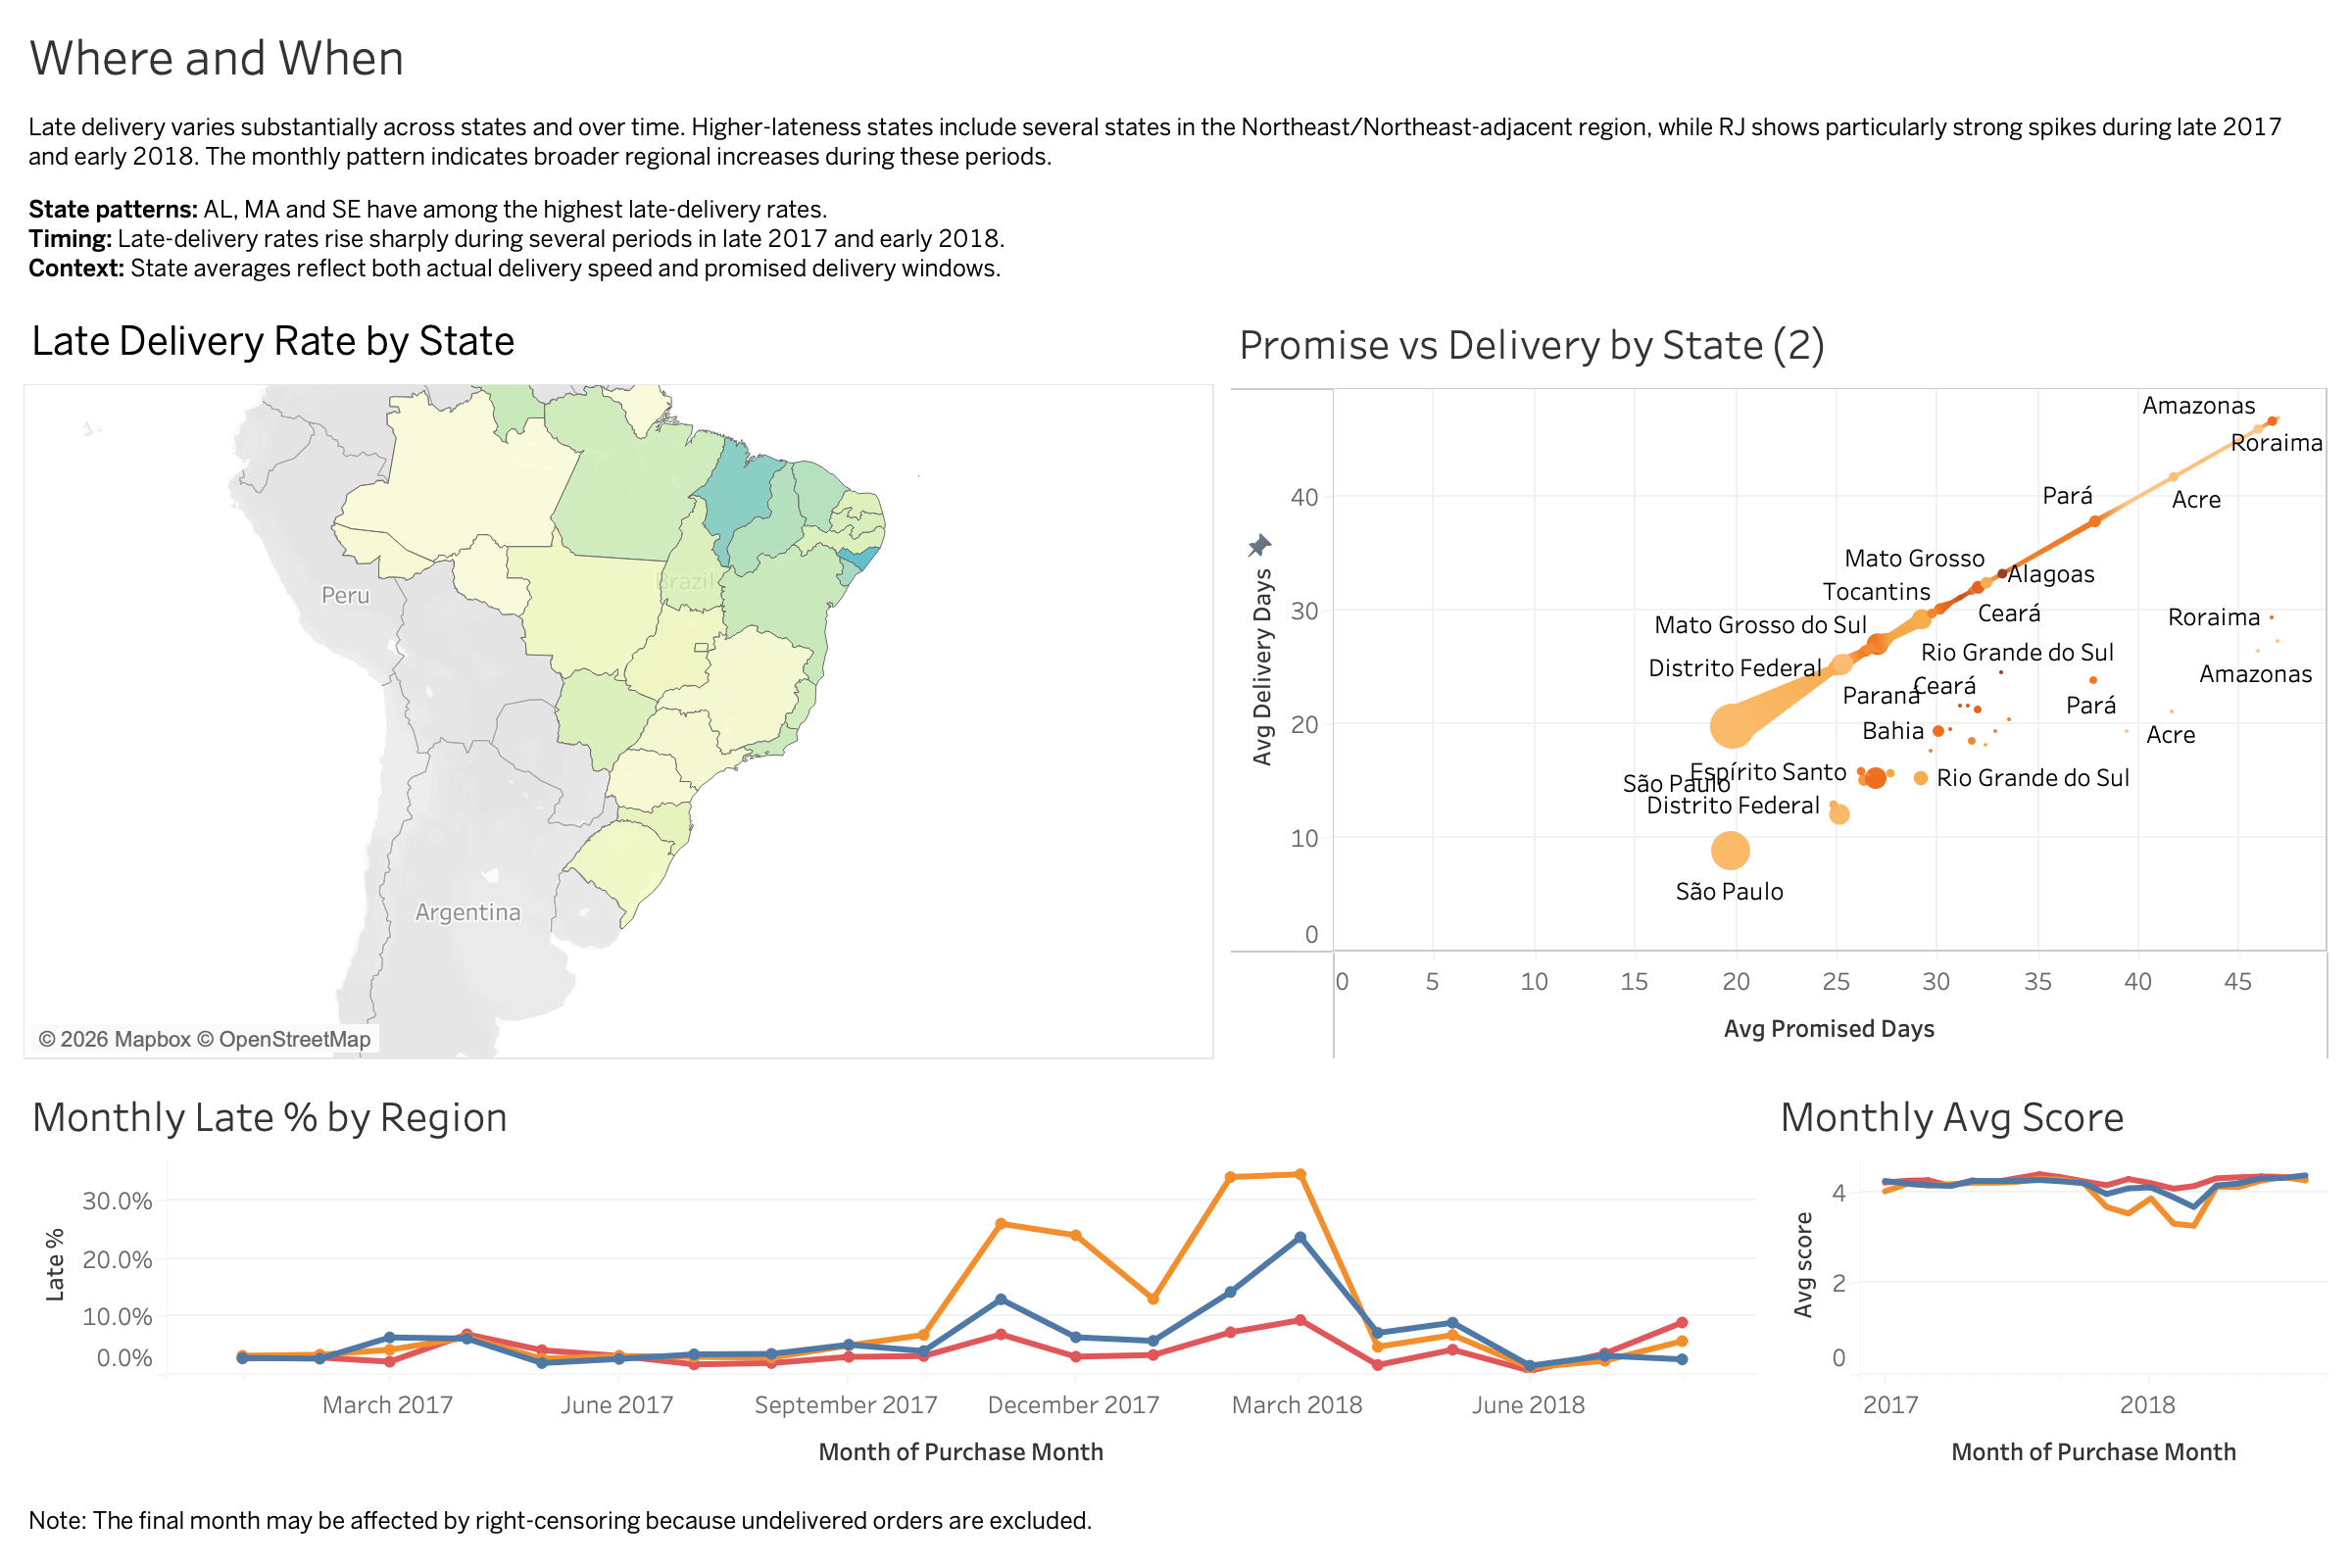

Layout of this report page (visuals, bound fields, positions):
{"tool":"tableau","page":{"name":"Where and When","canvas":[1200,800],"ordinal":3},"visuals":[{"type":"title","box":[8,8,1184,42]},{"type":"text","box":[8,50,1184,45]},{"type":"text","box":[8,95,1184,56]},{"type":"worksheet","title":"State map","mark":"Multipolygon","box":[8,151,590,394]},{"type":"worksheet","title":"Promise vs Delivery by State (2)","mark":"Circle","rows":["avg_delivery_days","Calculation_3002061679628298"],"cols":["avg_promised_days"],"box":[598,151,594,394]},{"type":"worksheet","title":"Monthly Late % by Region","mark":"Automatic","rows":["Calculation_3002061652684800"],"cols":["purchase_month"],"box":[8,545,892,215]},{"type":"worksheet","title":"Monthly Avg Score","mark":"Automatic","rows":["Calculation_3002061652811777"],"cols":["purchase_month"],"box":[900,545,292,215]},{"type":"text","box":[8,760,1184,32]}]}

Visuals, with their boxes in screenshot pixels (x1, y1, x2, y2), scaled from the page's 1200x800 canvas onto the 2352x1568 screenshot:
title: box(16, 16, 2336, 98)
text: box(16, 98, 2336, 186)
text: box(16, 186, 2336, 296)
"State map" worksheet (Multipolygon marks): box(16, 296, 1172, 1068)
"Promise vs Delivery by State (2)" worksheet (Circle marks): box(1172, 296, 2336, 1068)
"Monthly Late % by Region" worksheet: box(16, 1068, 1764, 1490)
"Monthly Avg Score" worksheet: box(1764, 1068, 2336, 1490)
text: box(16, 1490, 2336, 1552)
